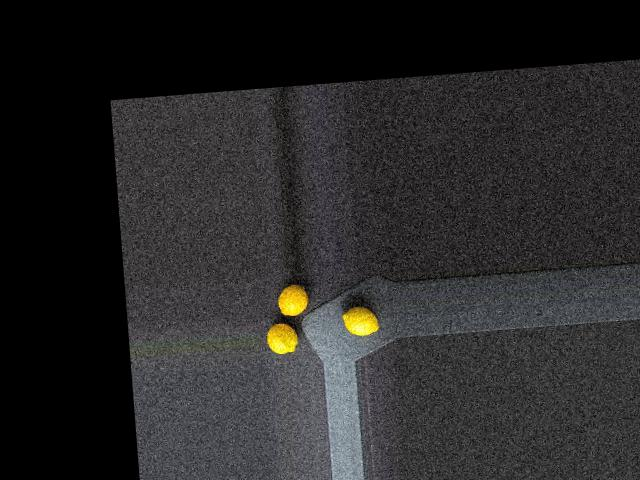lemon: (263, 320, 301, 356)
